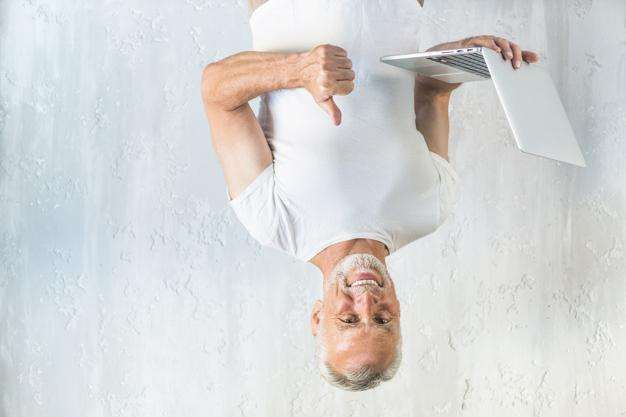thumbsdown: (314, 44, 356, 127)
